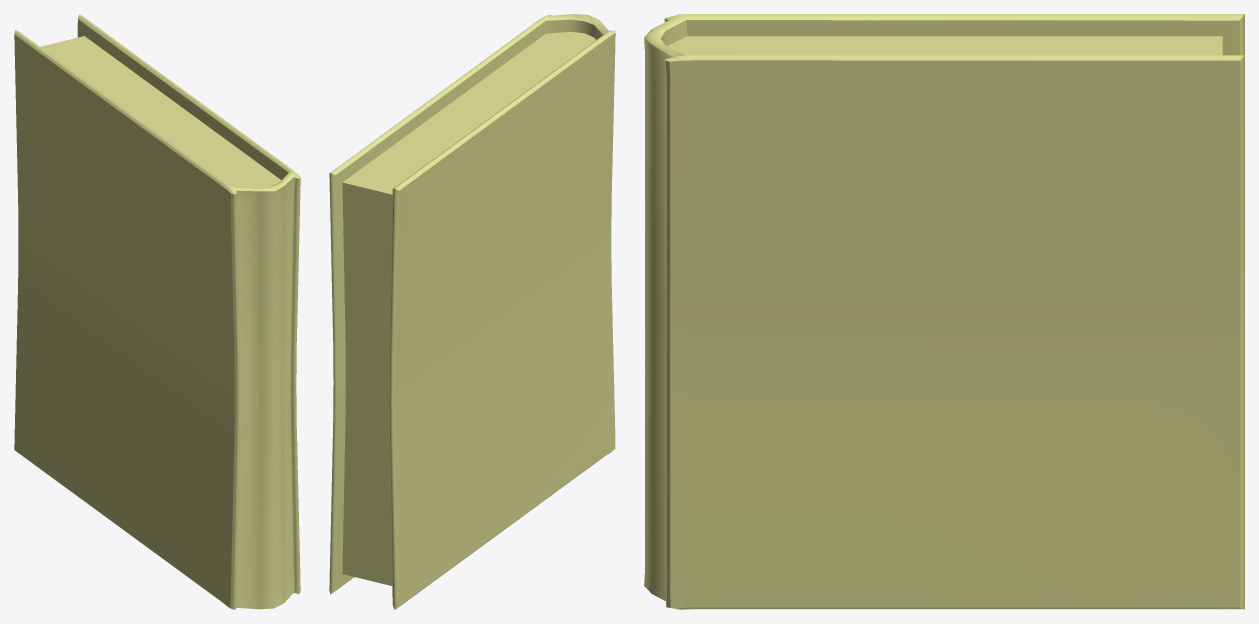
File: HD_Book_M.fbx
3 renders of one model, left to right at view 1: azimuth 30°, elevation 25°; view 2: azimuth 150°, elevation 25°; view 3: azimuth 270°, elevation 25°, orthographic. The views are drawn at different scales.
Visible parts, largest first — view 1: HD_BooK_M; view 2: HD_BooK_M; view 3: HD_BooK_M.
Boxes of the visible parts, left/top/right/bottom form: HD_BooK_M: left=14, top=14, right=300, bottom=609; HD_BooK_M: left=329, top=14, right=615, bottom=609; HD_BooK_M: left=644, top=14, right=1244, bottom=609.
Bounding box in the file's own units: 0.0624 × 0.3583 × 0.3516.
